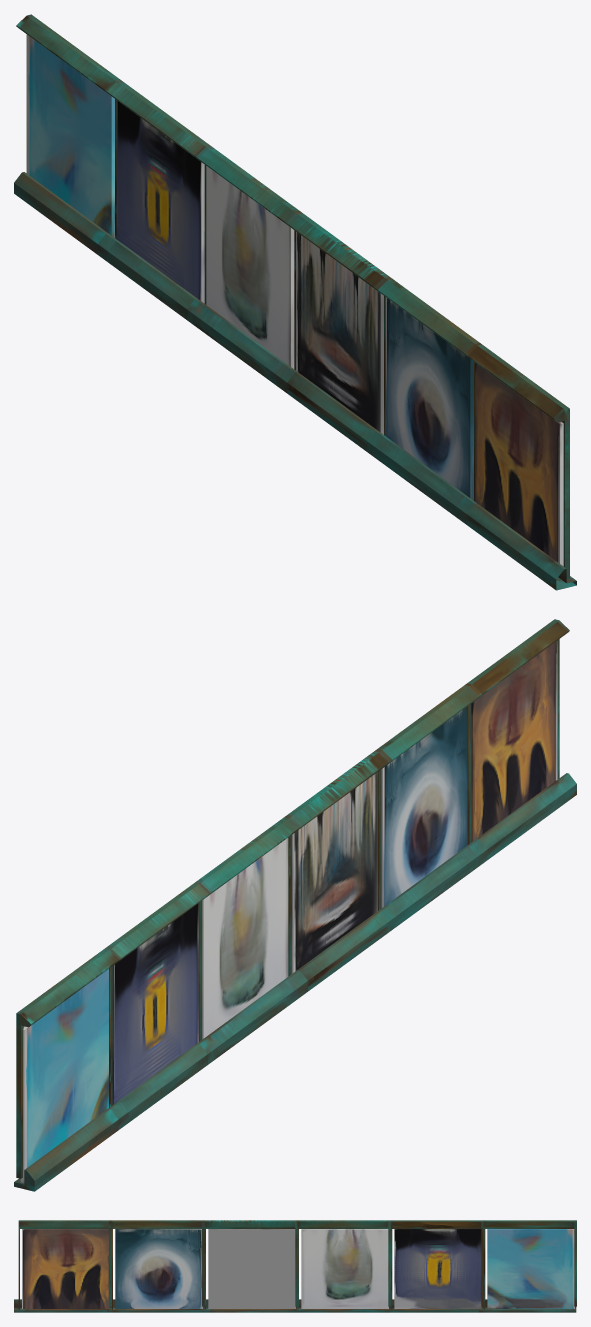
Rendered from discos forntal.fbx.
3 renders of one model, top to bottom at view 1: azimuth 30°, elevation 25°; view 2: azimuth 150°, elevation 25°; view 3: azimuth 270°, elevation 25°, orthographic. The views are drawn at different scales.
Visible parts, largest first — view 1: discos forntal.005; view 2: discos forntal.005; view 3: discos forntal.005.
Boxes of the visible parts, <box> form: discos forntal.005: <box>14,14,576,590</box>; discos forntal.005: <box>14,619,576,1191</box>; discos forntal.005: <box>14,1220,576,1312</box>.
Size of the model in its own units: 8.65 by 69.68 by 393.
